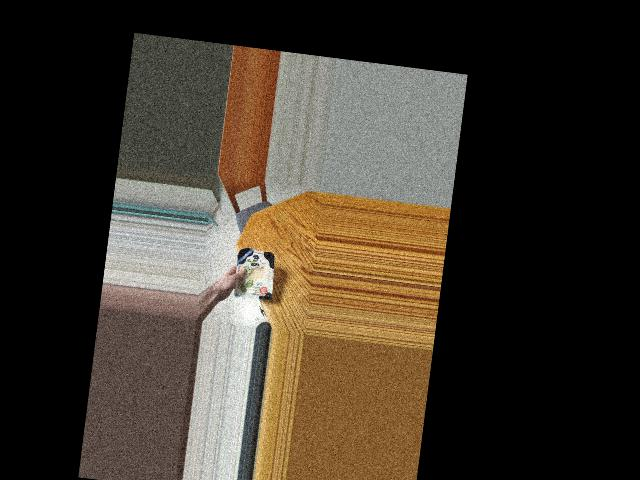cheese: (229, 235, 278, 311)
